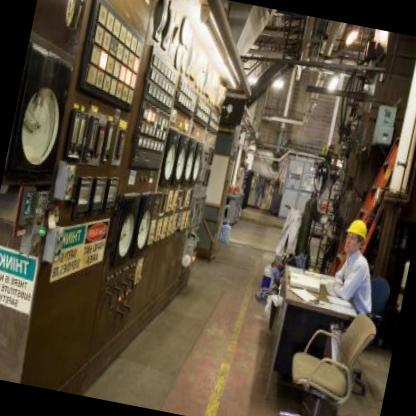bee: (339, 213, 371, 260)
